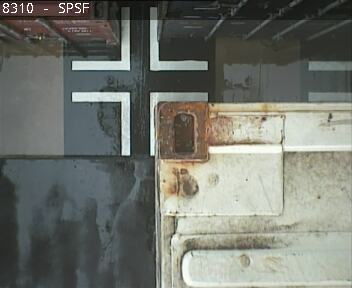groundmarker_1: (70, 89, 209, 157), (71, 4, 209, 72)
